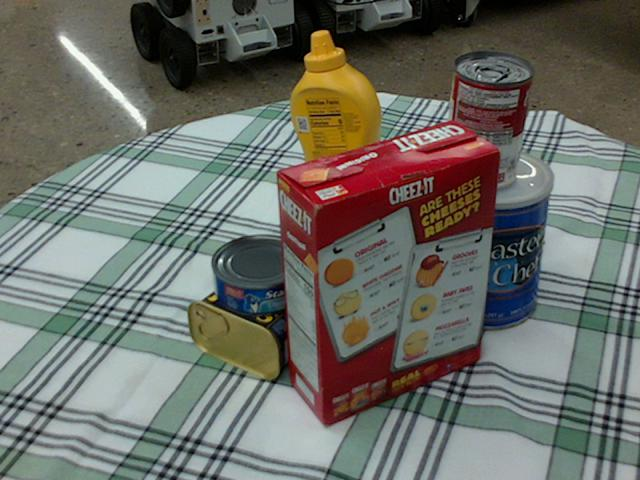cracker_box: (276, 120, 500, 425)
gelatin_box: (281, 178, 364, 244)
master_chef_can: (430, 146, 554, 329)
mug: (295, 212, 406, 330)
mustard_bottle: (289, 31, 396, 220)
potted_meat_can: (189, 264, 331, 379)
sugar_box: (348, 163, 500, 286)
tomato_soup_can: (443, 51, 531, 190)
tuna_fish_can: (211, 234, 308, 316)
